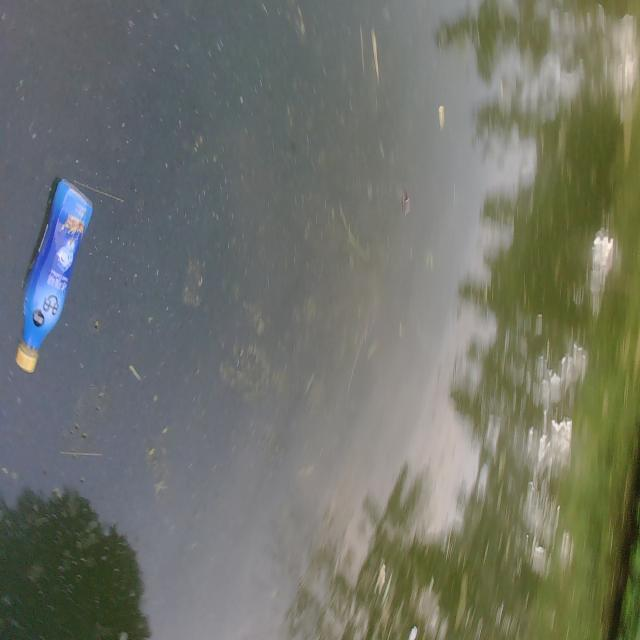garbage: (15, 176, 93, 374)
